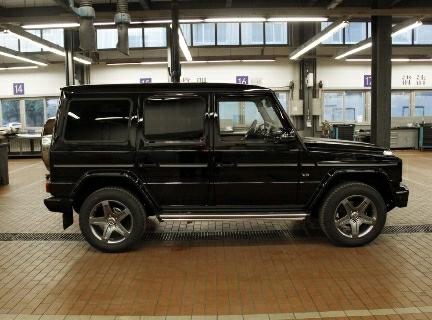car: (29, 81, 412, 254)
